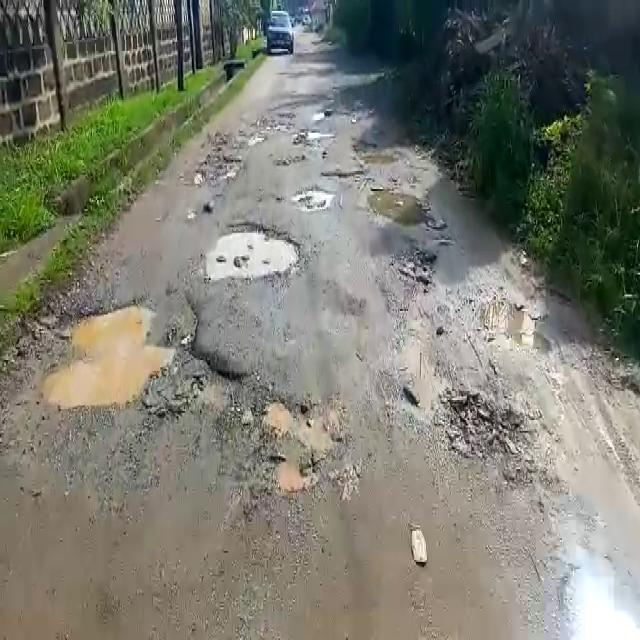Pothole: (41, 298, 202, 413), (241, 397, 346, 506), (438, 386, 538, 464), (204, 221, 305, 281), (476, 297, 556, 356), (368, 185, 432, 228), (193, 149, 244, 185), (293, 185, 332, 209), (322, 168, 372, 182)
